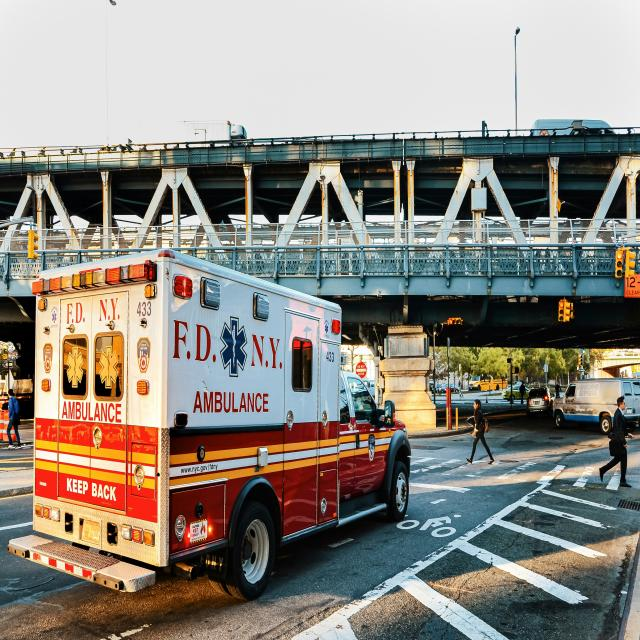car: (552, 377, 640, 435), (526, 386, 554, 416)
emergency: (30, 249, 410, 600)
